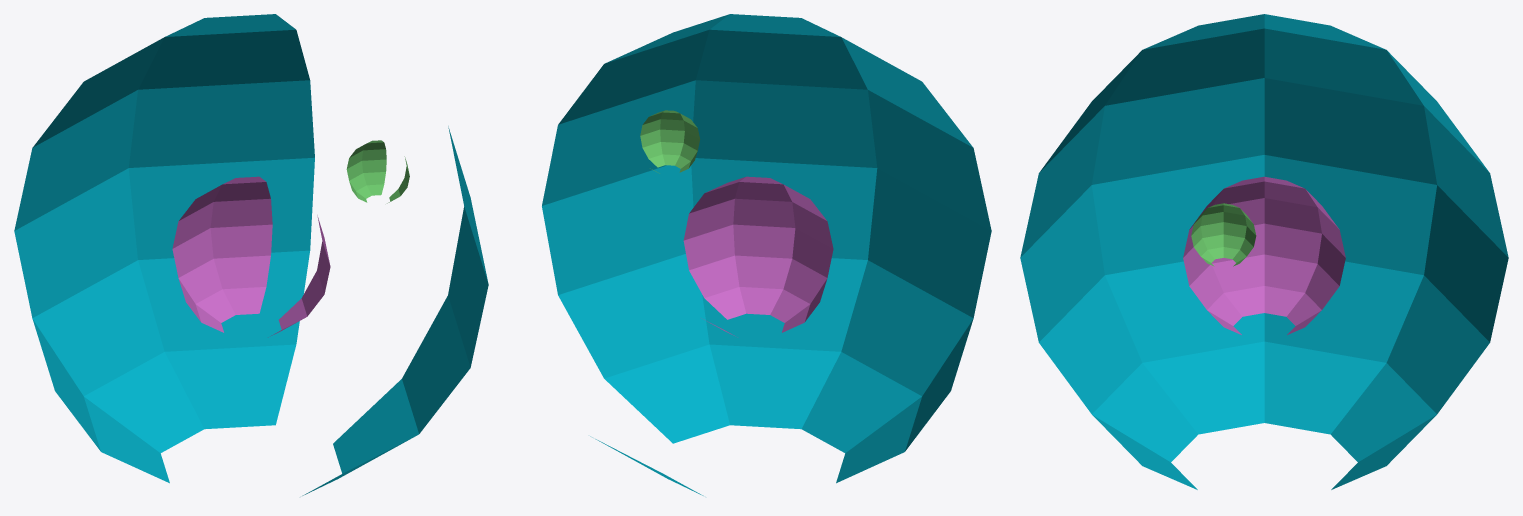
The model's file is hologram.glb.
The picture shows the model from 3 angles, left to right: view 1: azimuth 30°, elevation 25°; view 2: azimuth 150°, elevation 25°; view 3: azimuth 270°, elevation 25°; orthographic projection.
Size of the model in its own units: 1.2 by 1.15 by 1.2.
